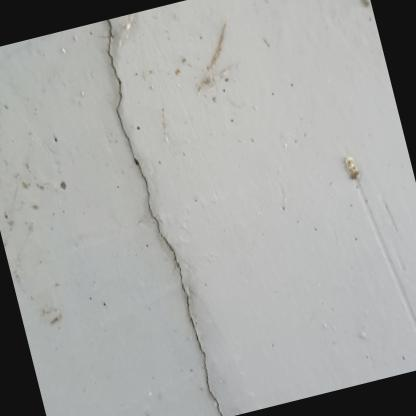crack: (106, 19, 222, 416)
